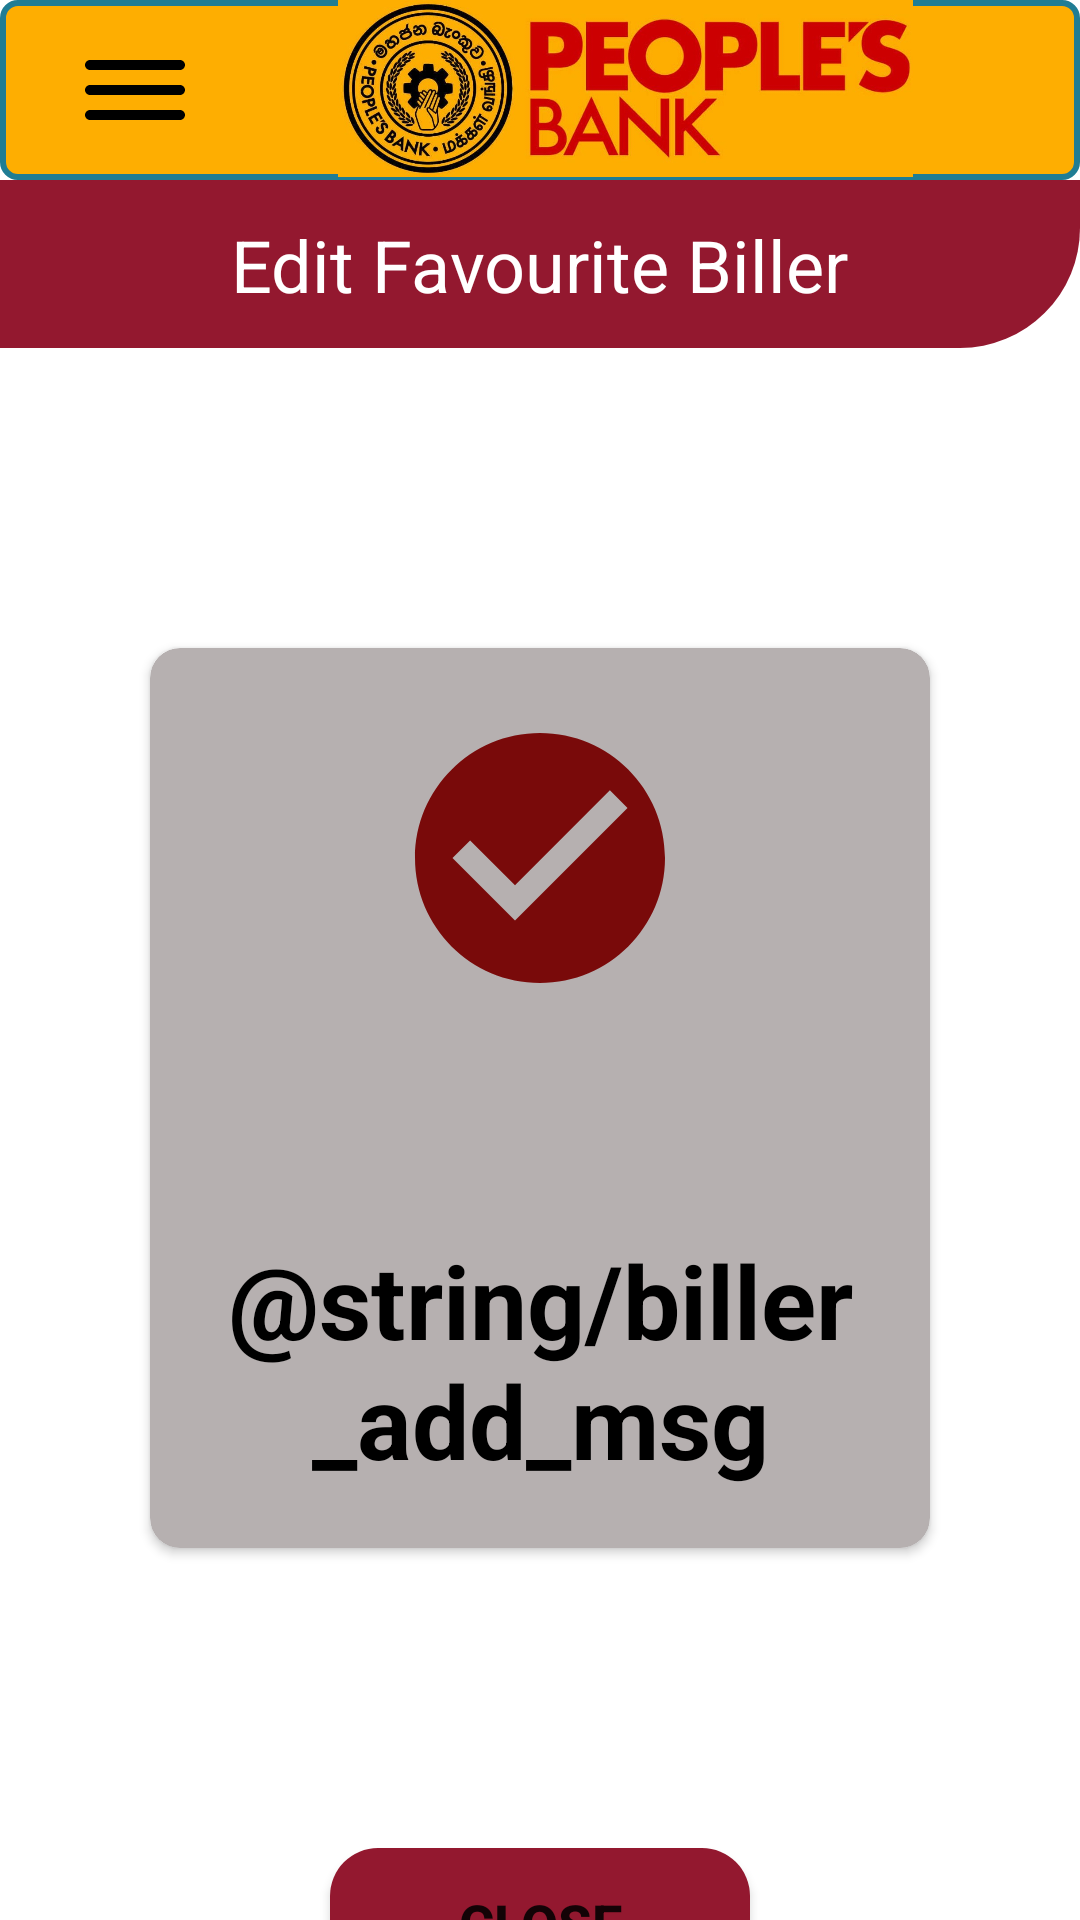

Locate icon controls on the screen. Image size 1080px x 1920px, boxes as box(x1, y1, x2, y2).
check circle: box(415, 733, 665, 983)
dehaze: box(85, 60, 185, 120)
